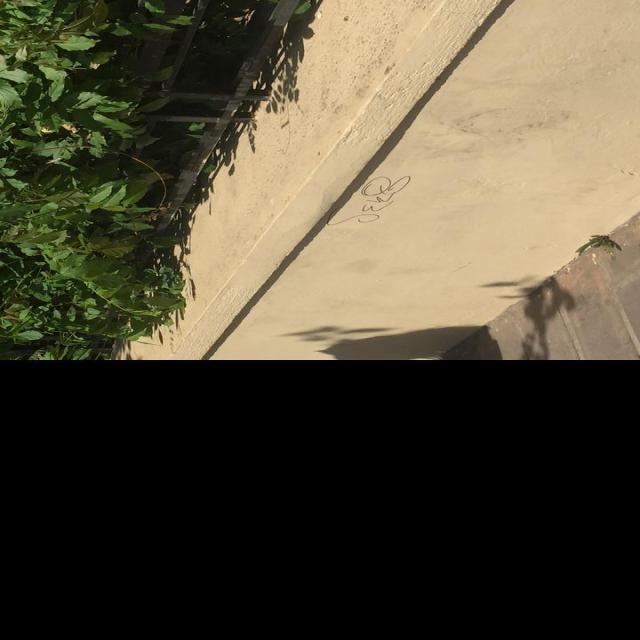nonspitting: (326, 176, 412, 226)
